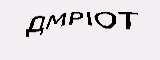В: (54, 24, 72, 49)
Г: (36, 22, 54, 44)
Н: (107, 21, 124, 45)
С: (75, 23, 93, 51)
Э: (92, 22, 107, 47)
